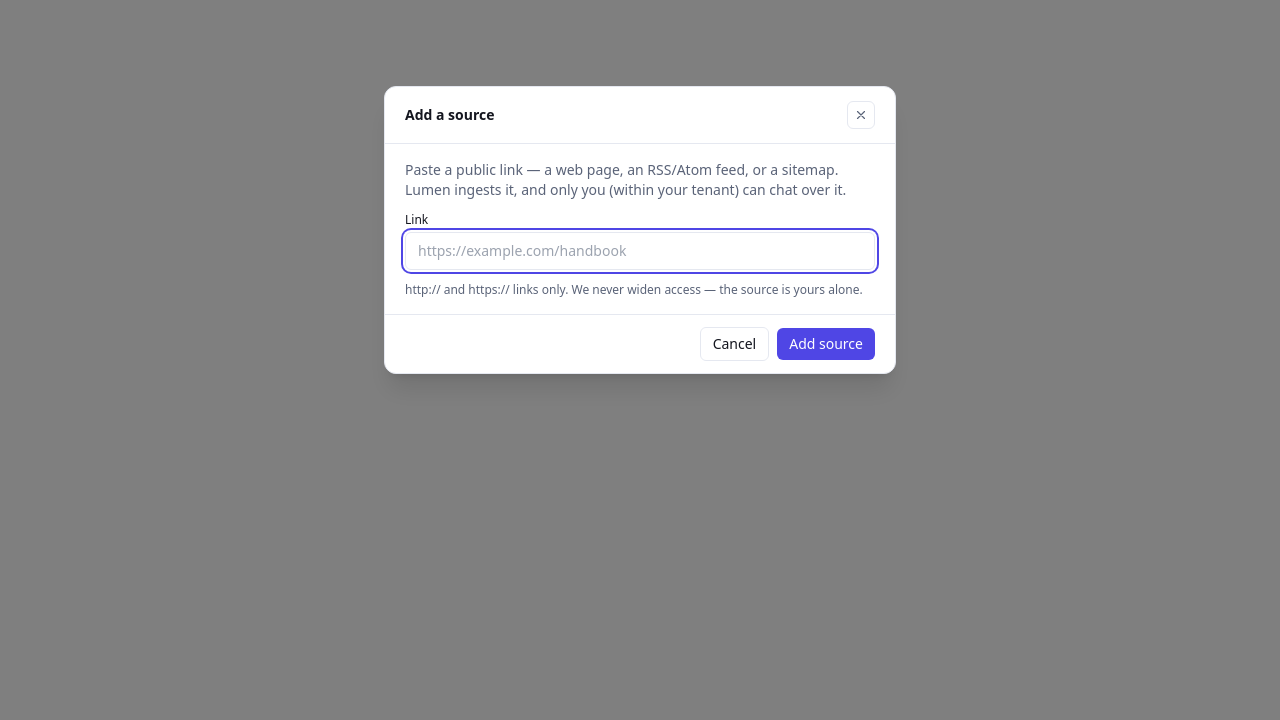
Scenario: AddSourceModal › shows an INLINE error and stays open on a 422 SSRF block (url_blocked)
The image size is (1280, 720).
Type "http://169.254.169.254/latest" into the field labelled "Link" at (640, 251), box top-left (405, 232), bottom-right (875, 270)
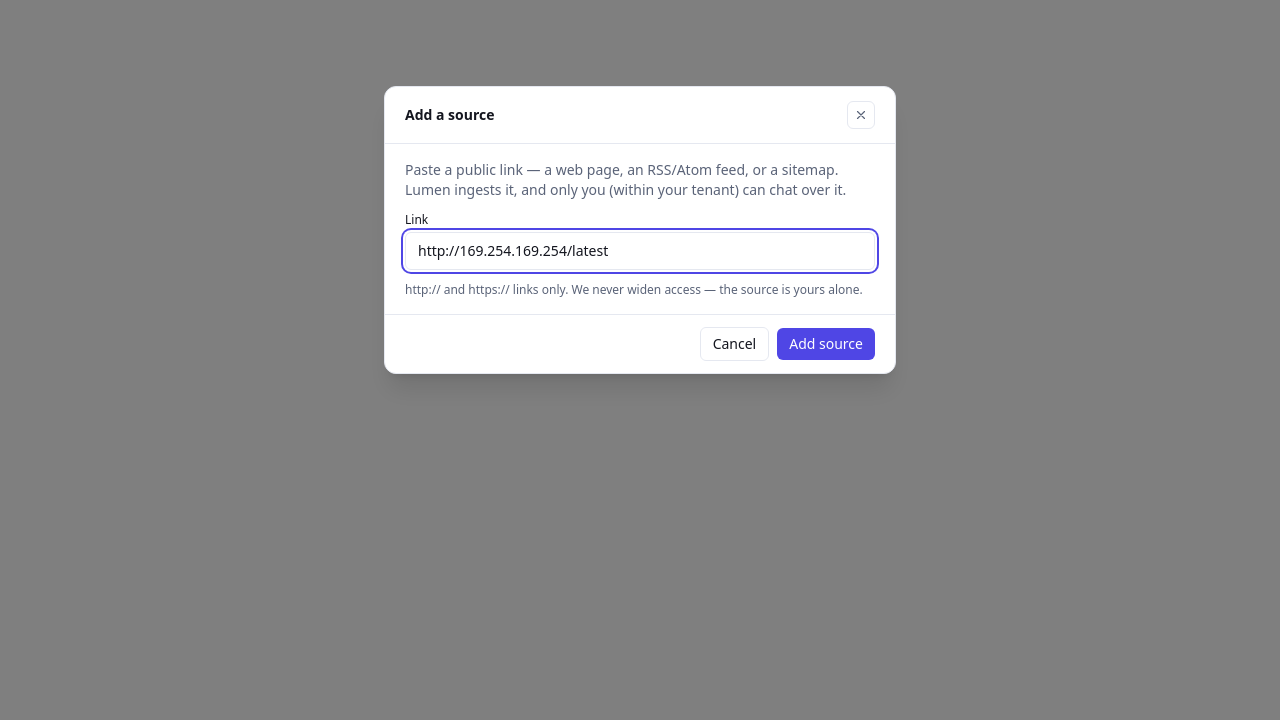
Click the button "Add source" at (826, 344), box top-left (777, 328), bottom-right (875, 360)
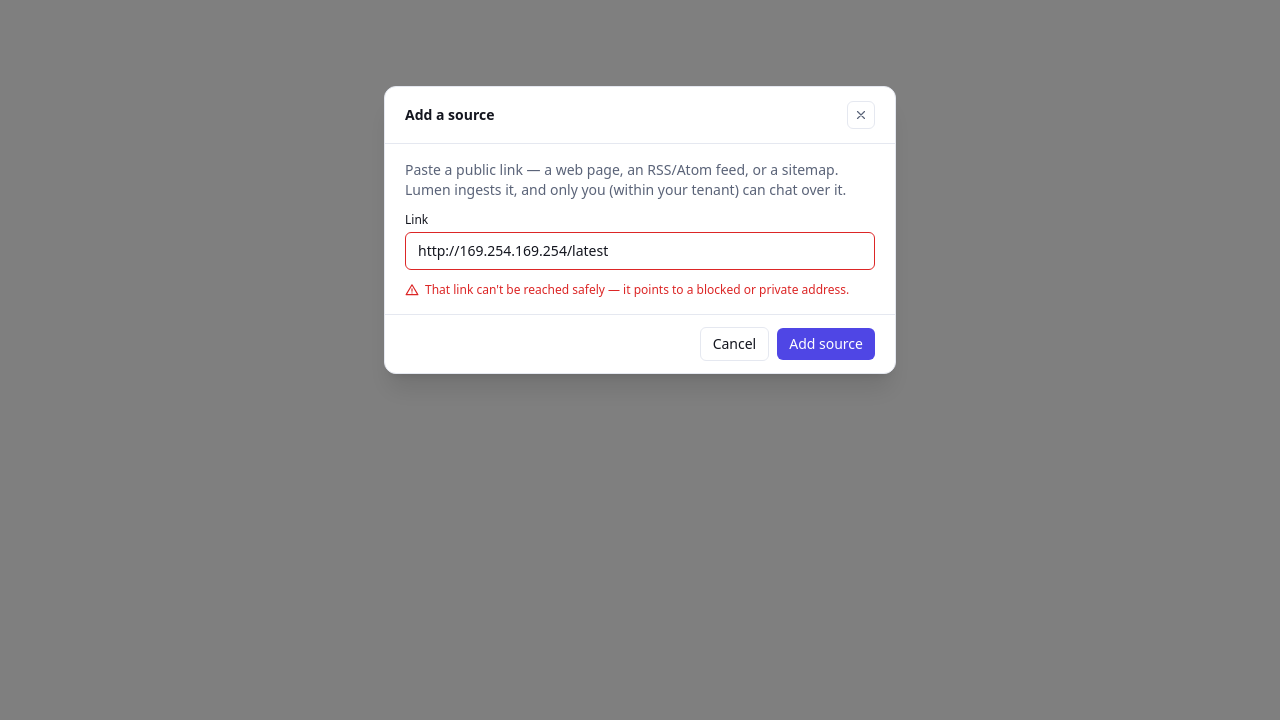
Expected: the message shows "blocked or private address", top-left (425, 281), bottom-right (849, 298)
